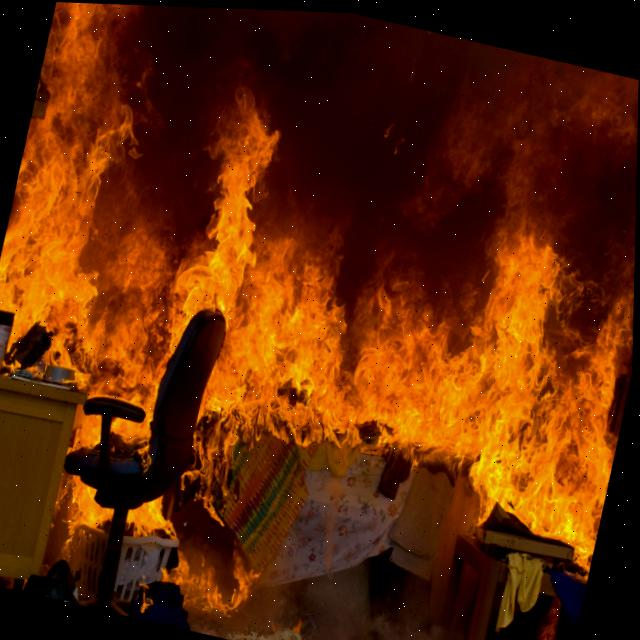fire: (0, 2, 639, 563)
smoke: (103, 4, 639, 306)
